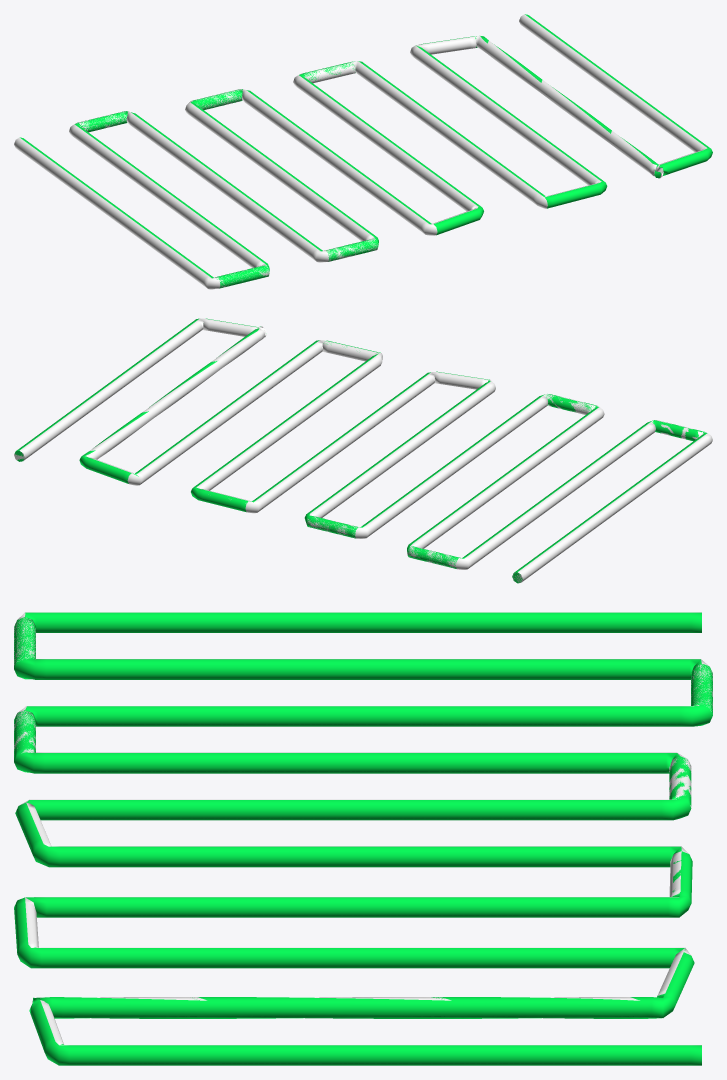
Rendered from Spline_highhhh.fbx.
The picture shows the model from 3 angles, top to bottom: view 1: azimuth 30°, elevation 25°; view 2: azimuth 150°, elevation 25°; view 3: azimuth 270°, elevation 25°; orthographic projection. The views are drawn at different scales.
Parts seen in each view (by area): view 1: Spline_GLASS, Spline_high; view 2: Spline_GLASS, Spline_high; view 3: Spline_high, Spline_GLASS.
Part boxes in pixels (x1,y1,x2,y2): Spline_GLASS: (14,14,707,289); Spline_high: (20,14,712,288); Spline_GLASS: (14,318,712,582); Spline_high: (14,318,707,583); Spline_high: (14,612,712,1065); Spline_GLASS: (14,612,712,1045).
Size of the model in its own units: 236 by 5 by 158.
